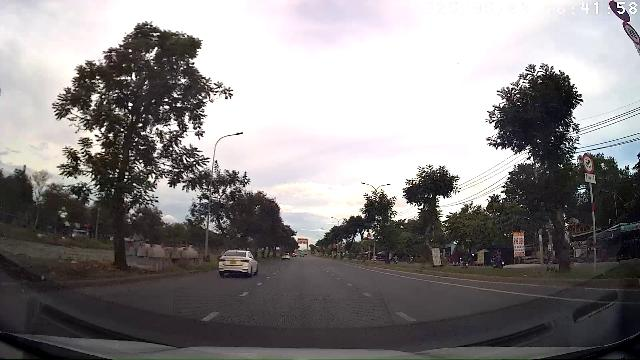127-toc-do-toi-da-50: (582, 154, 594, 172)
